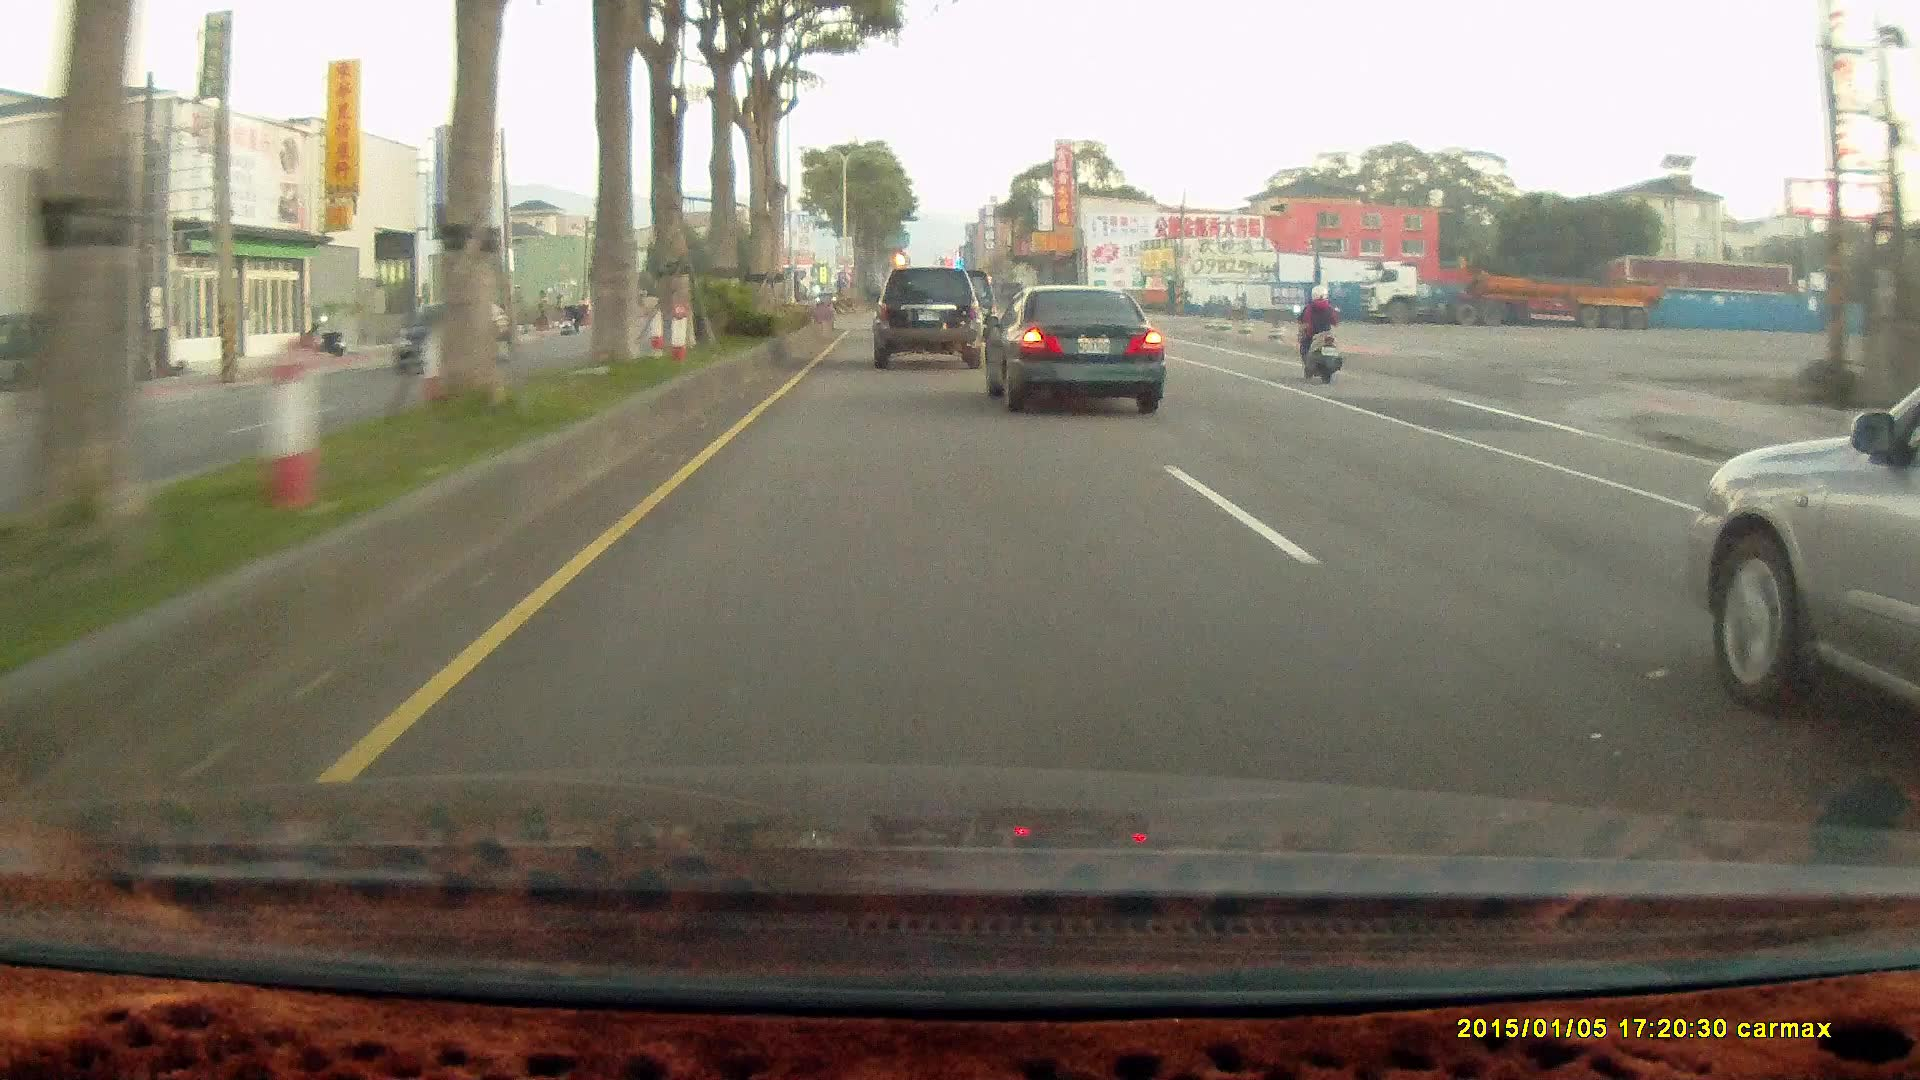pedestrian: (559, 302, 584, 334)
rider: (1286, 277, 1351, 391), (1291, 282, 1342, 383)
vehicle: (1688, 378, 1920, 730), (980, 283, 1164, 412), (987, 285, 1167, 414), (1359, 257, 1660, 328), (872, 264, 987, 367), (869, 265, 981, 367), (392, 299, 516, 375), (1, 309, 95, 388)
